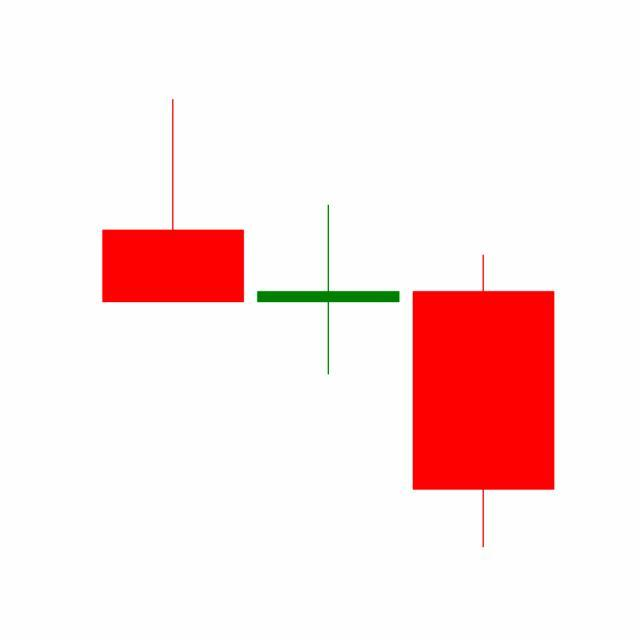Spinning Top: (250, 203, 407, 377)
